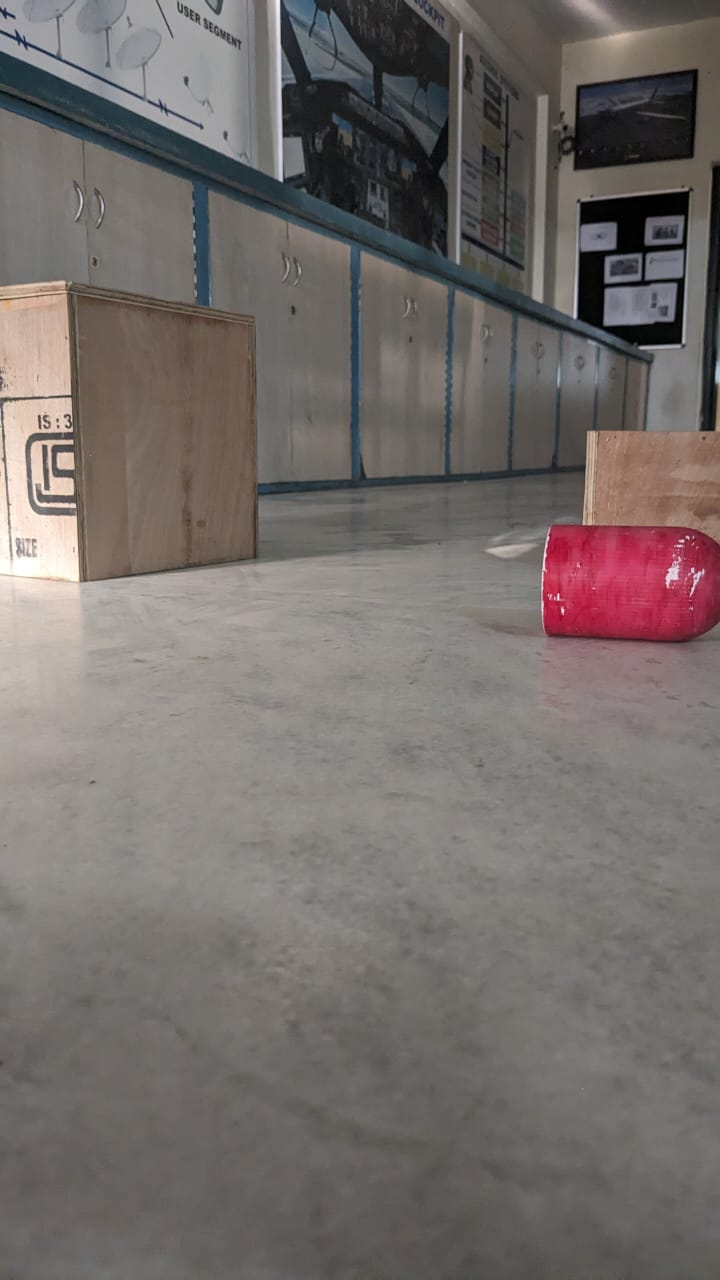150mm obstacle: (584, 420, 720, 522)
300mm obstacle: (6, 269, 278, 608)
testtube: (535, 522, 720, 660)
